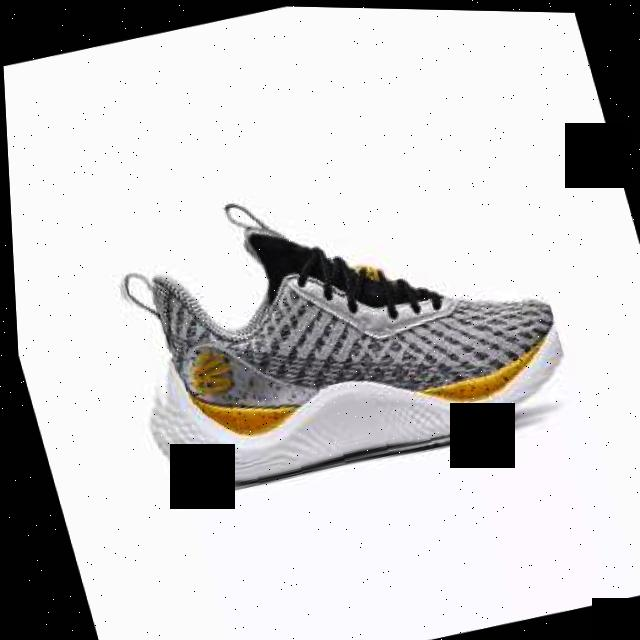shoe: (94, 136, 580, 507)
